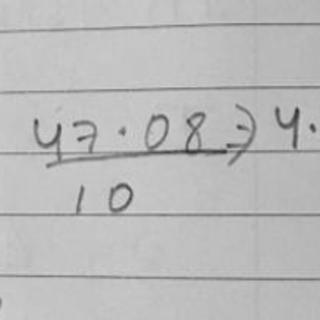.: (114, 121, 132, 138), (305, 118, 320, 134)
0: (143, 108, 170, 151), (107, 181, 137, 213)
1: (70, 182, 88, 218)
4: (31, 119, 65, 168), (273, 100, 303, 153)
7: (72, 117, 100, 153)
8: (183, 109, 211, 155)
